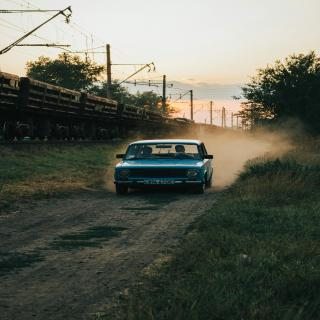Normal_vehicle: (113, 139, 215, 196)
